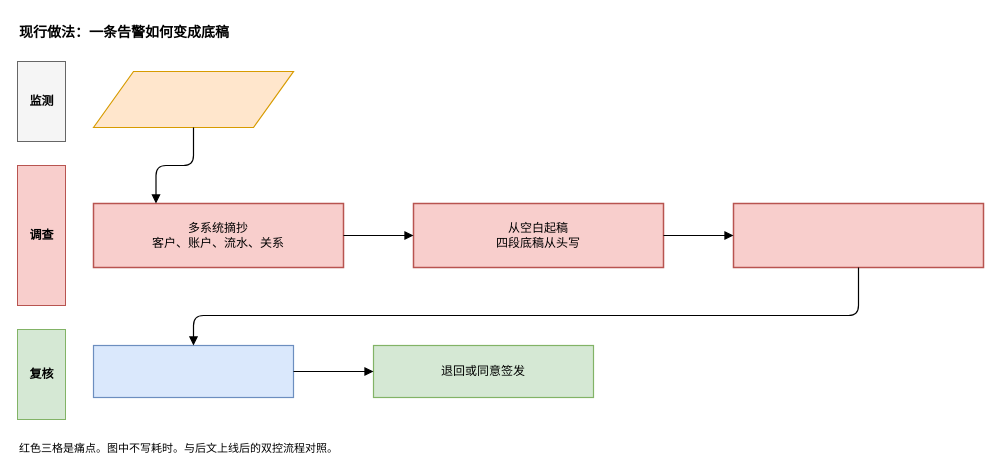
Some shapes in this 1002 by 476 pixel diagram are drawn without their labels. Each missing label, with the box of its shape:
排除理由留痕 排除也要写下理由: (732, 202, 984, 268)
监测系统 产出告警: (92, 70, 294, 128)
阅读底稿: (92, 344, 294, 398)
